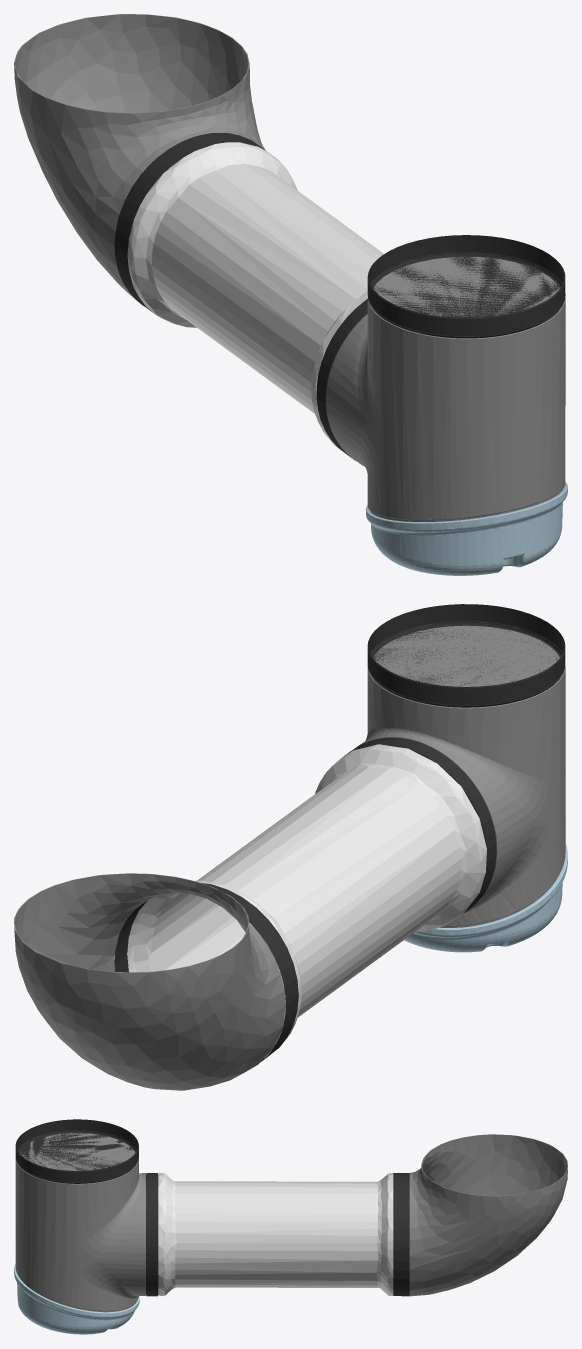
3 renders of one model, top to bottom at view 1: azimuth 30°, elevation 25°; view 2: azimuth 150°, elevation 25°; view 3: azimuth 270°, elevation 25°, orthographic. The views are drawn at different scales.
Parts seen in each view (by area): view 1: eSeries_UR3e_033, eSeries_UR3e_024, eSeries_UR3e_022, eSeries_UR3e_028, eSeries_UR3e_026, eSeries_UR3e_023, eSeries_UR3e_025; view 2: eSeries_UR3e_024, eSeries_UR3e_022, eSeries_UR3e_033, eSeries_UR3e_028, eSeries_UR3e_026, eSeries_UR3e_023, eSeries_UR3e_025; view 3: eSeries_UR3e_024, eSeries_UR3e_022, eSeries_UR3e_033, eSeries_UR3e_028, eSeries_UR3e_026, eSeries_UR3e_023, eSeries_UR3e_025.
Boxes of the visible parts, <box> form: eSeries_UR3e_033: <box>326,257,565,521</box>; eSeries_UR3e_024: <box>127,142,383,450</box>; eSeries_UR3e_022: <box>14,14,264,305</box>; eSeries_UR3e_028: <box>367,235,565,338</box>; eSeries_UR3e_026: <box>365,482,567,575</box>; eSeries_UR3e_023: <box>114,133,265,316</box>; eSeries_UR3e_025: <box>316,299,367,460</box>; eSeries_UR3e_024: <box>127,744,486,1058</box>; eSeries_UR3e_022: <box>14,873,285,1090</box>; eSeries_UR3e_033: <box>357,625,565,927</box>; eSeries_UR3e_028: <box>367,604,565,707</box>; eSeries_UR3e_026: <box>404,843,567,952</box>; eSeries_UR3e_023: <box>114,883,298,1061</box>; eSeries_UR3e_025: <box>343,737,496,912</box>; eSeries_UR3e_024: <box>158,1172,393,1296</box>; eSeries_UR3e_022: <box>409,1134,567,1296</box>; eSeries_UR3e_033: <box>15,1133,145,1312</box>; eSeries_UR3e_028: <box>15,1119,138,1183</box>; eSeries_UR3e_026: <box>14,1264,139,1334</box>; eSeries_UR3e_023: <box>393,1173,409,1296</box>; eSeries_UR3e_025: <box>146,1173,158,1296</box>.
Bounding box in the file's own units: 0.0751 × 0.097 × 0.2828.
